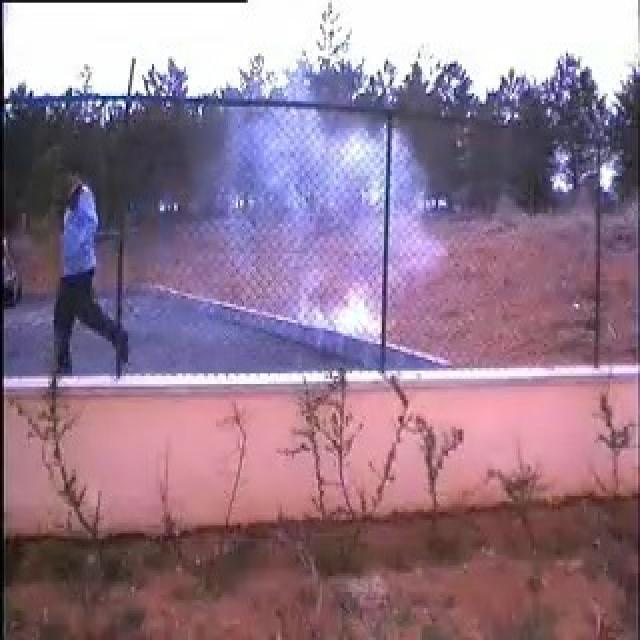Smoke: (213, 105, 410, 338)
